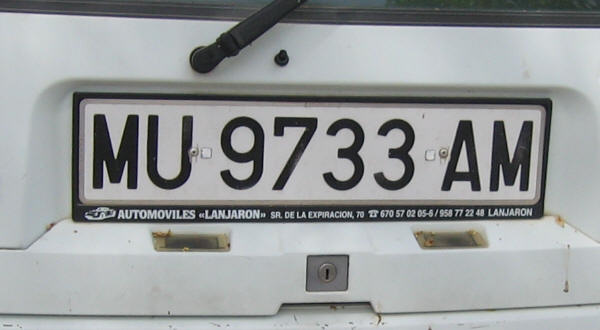license_plate: (79, 98, 546, 210)
